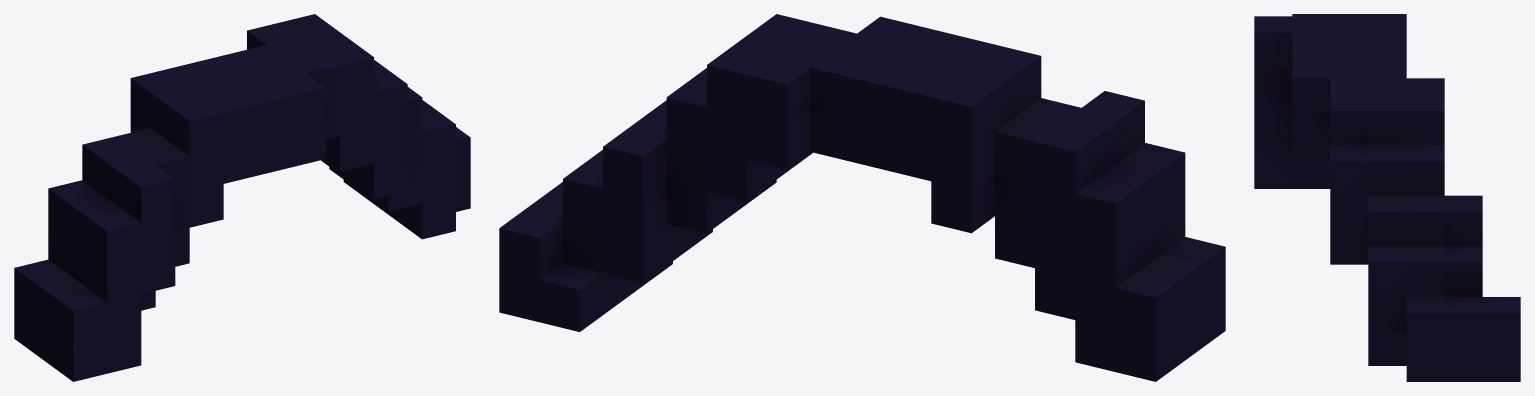
File: eye_happy_l.glb
The picture shows the model from 3 angles, left to right: view 1: azimuth 30°, elevation 25°; view 2: azimuth 150°, elevation 25°; view 3: azimuth 270°, elevation 25°; orthographic projection. The views are drawn at different scales.
Visible parts, largest first — view 1: eye_happy_l; view 2: eye_happy_l; view 3: eye_happy_l.
Boxes of the visible parts, box(x1,y1,x2,y2) form: eye_happy_l: box(14, 14, 470, 381); eye_happy_l: box(499, 14, 1225, 381); eye_happy_l: box(1254, 14, 1520, 381).
Bounding box in the file's own units: 0.125 × 0.0536 × 0.0625.
